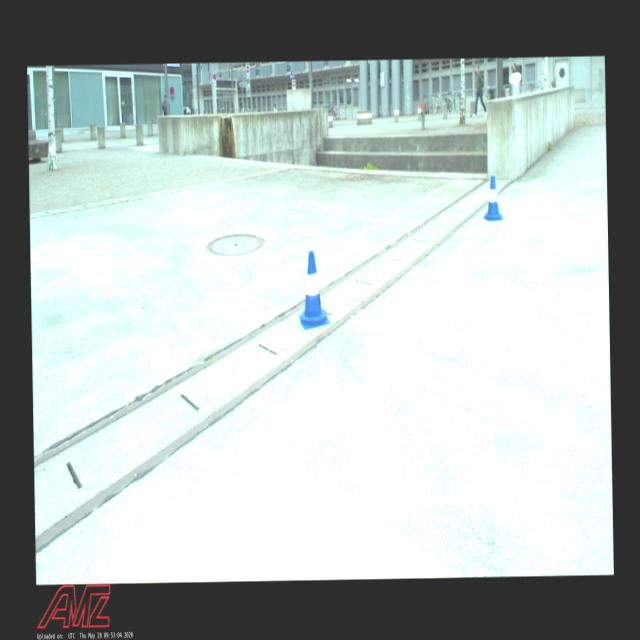blue_cone: (296, 248, 330, 329), (483, 174, 502, 222)
